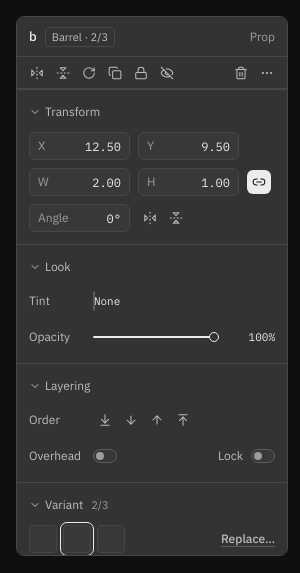
Test: Prop card › Escape in a field puts it back with nothing landed
Replace the text in the field named "Y (centre, squares)" with "99": [194, 146] box x1=158 y1=133 x2=230 y2=159
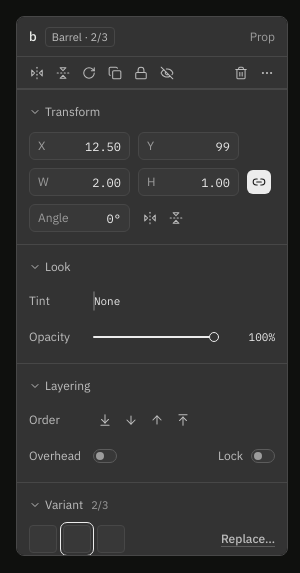
Press Escape in the field named "Y (centre, squares)", box x1=158 y1=133 x2=230 y2=159
Leave the field named "Y (centre, squares)", box x1=158 y1=133 x2=230 y2=159
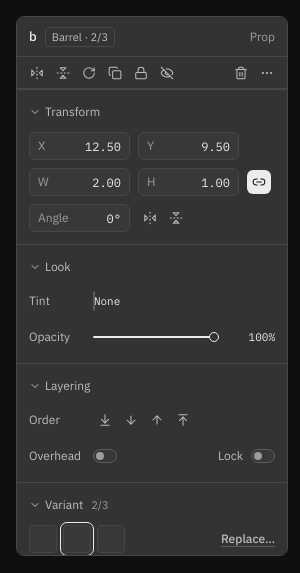
expect the field named "Y (centre, squares)" holds "9.50": met, box x1=158 y1=133 x2=230 y2=159
